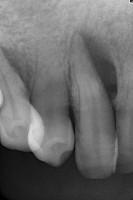Furcation Involvement: (75, 30, 117, 100), (0, 46, 34, 93)
